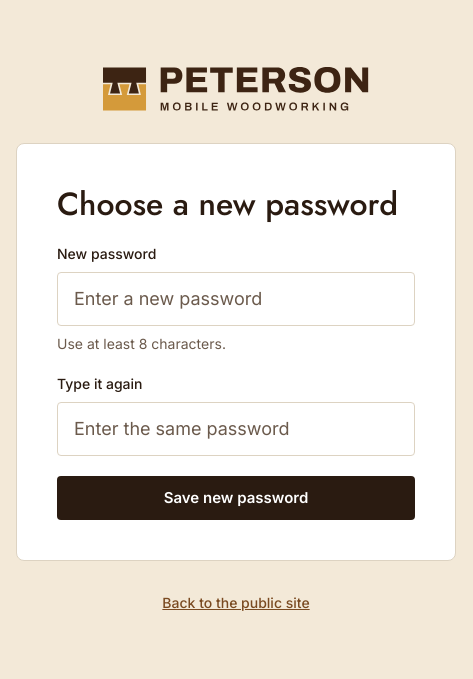
Test case: ResetPasswordPage › shows the failed banner and keeps the form
In the password field labelled "New password": (236, 299) [57,272,415,326], type "new-password-123"
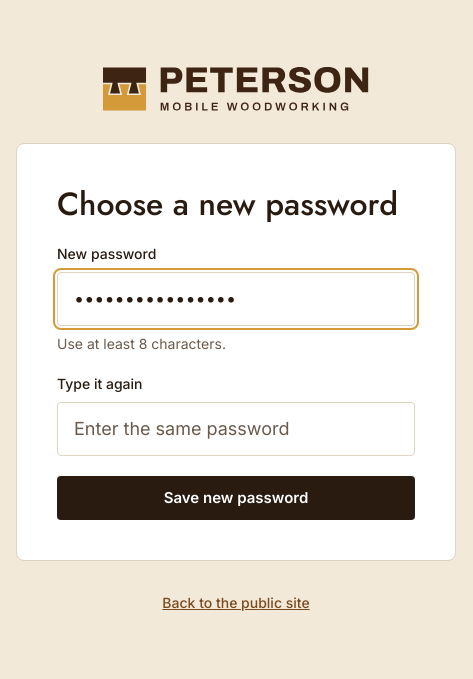
In the password field labelled "Type it again": (236, 429) [57,402,415,456], type "new-password-123"
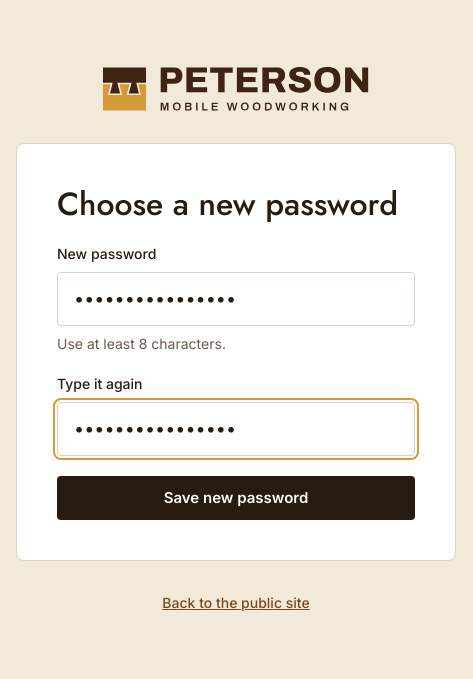
Click the button "Save new password": (236, 498) [57,476,415,520]
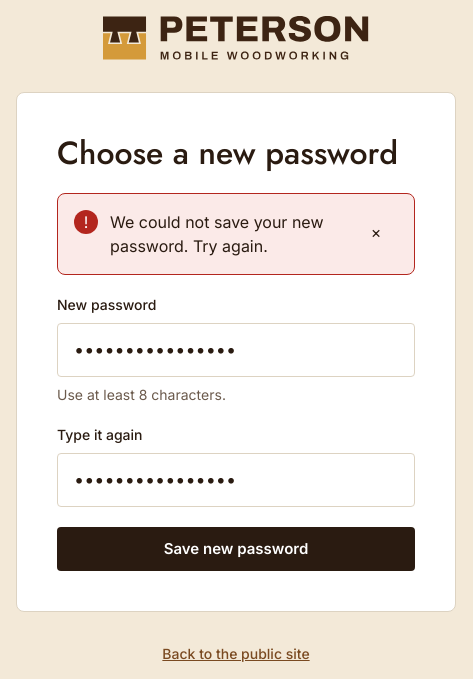
Expected: the button "Save new password" is enabled, [57,527,415,571]
Now the message shows "We could not save your new password. Try again.", box [110,212,324,256]
